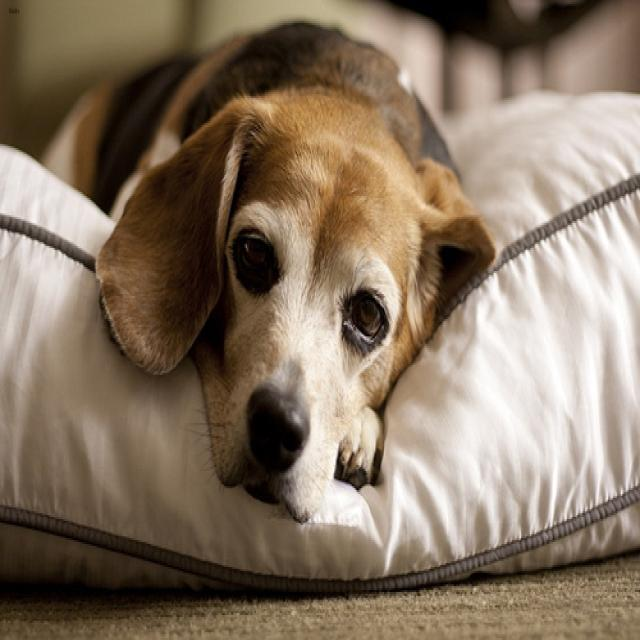dog-beagle: (33, 6, 498, 532)
